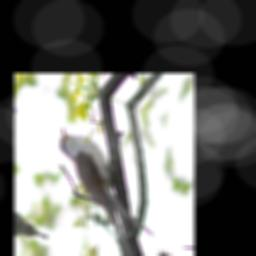Cuckoo: (45, 126, 171, 244)
